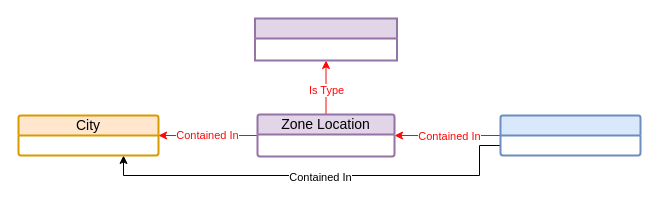
Some shapes in this 658 by 201 pixel diagram are drawn without their labels. The shapes that lost their labels are listed below. From the top down, each one's centre as x and y in pixels, then its label:
point (326, 39): Zone Type
point (570, 135): BusinessLocation
